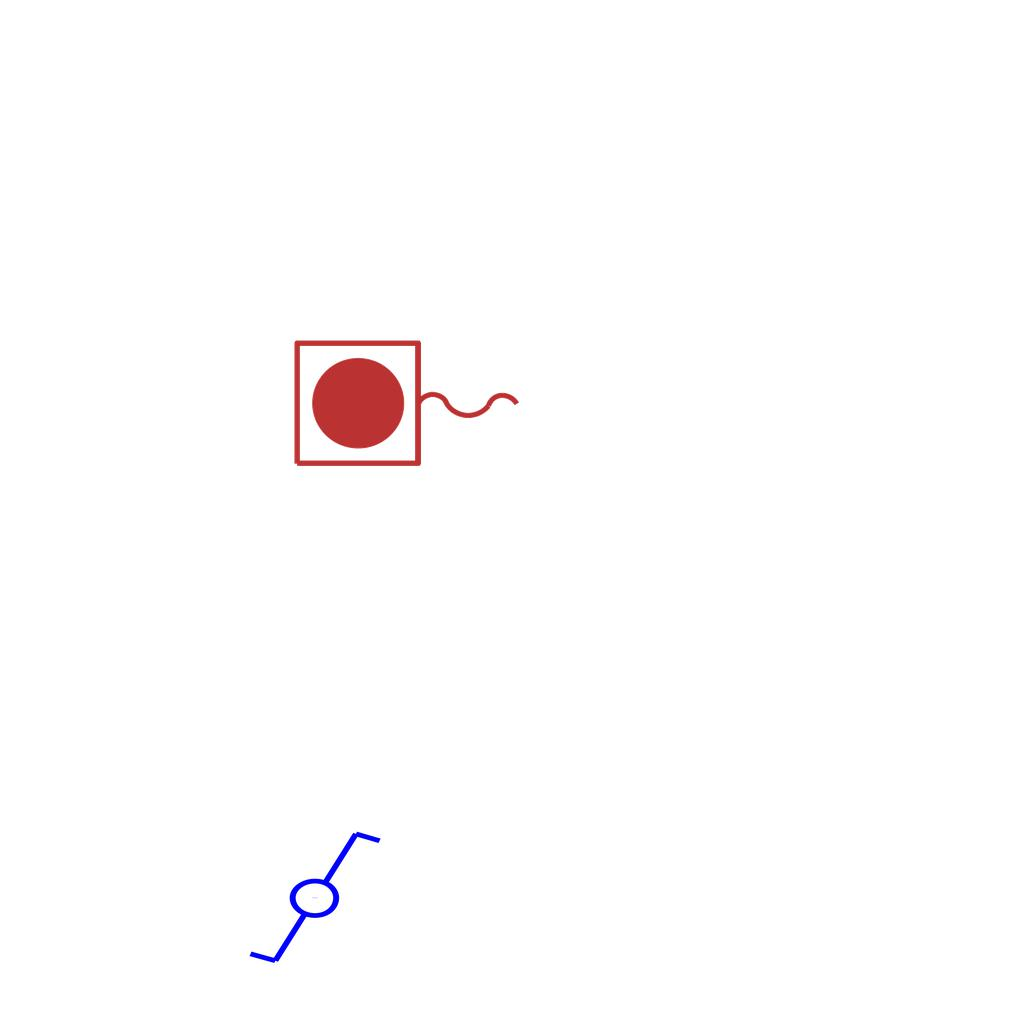Wechselschalter: (228, 824, 385, 968)
Zugtaster: (286, 333, 530, 477)
